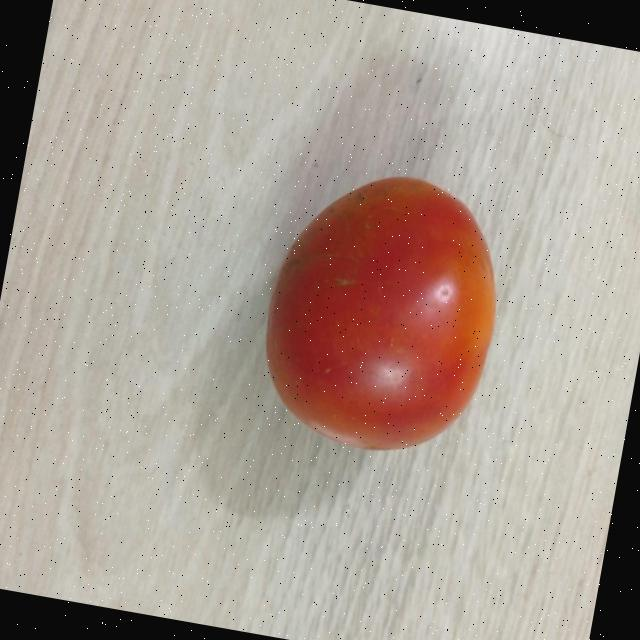Tomato: (241, 151, 522, 476)
